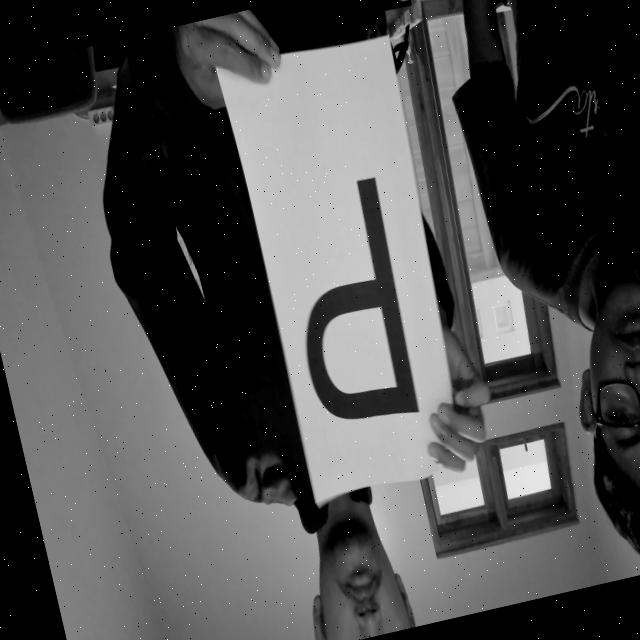p: (236, 118, 439, 445)
